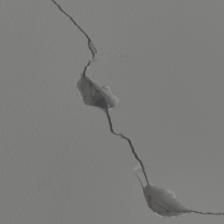Medium: (60, 8, 201, 217)
